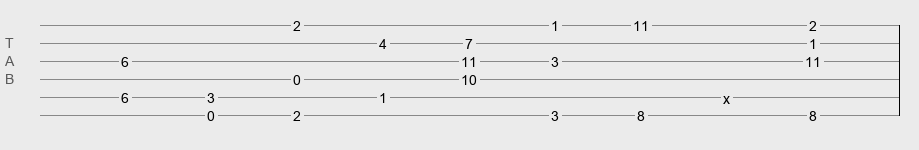0: (207, 108, 215, 118), (293, 72, 301, 82)
1: (379, 90, 387, 100), (551, 18, 559, 28), (809, 36, 817, 46)
10: (461, 72, 477, 82)
11: (461, 54, 477, 64), (633, 18, 649, 28), (805, 54, 821, 64)
2: (293, 108, 301, 118), (293, 18, 301, 28), (809, 18, 817, 28)
3: (207, 90, 215, 100), (551, 108, 559, 118), (551, 54, 559, 64)
4: (379, 36, 387, 46)
6: (121, 90, 129, 100), (121, 54, 129, 64)
7: (465, 36, 473, 46)
8: (637, 108, 645, 118), (809, 108, 817, 118)
x: (723, 91, 730, 99)
